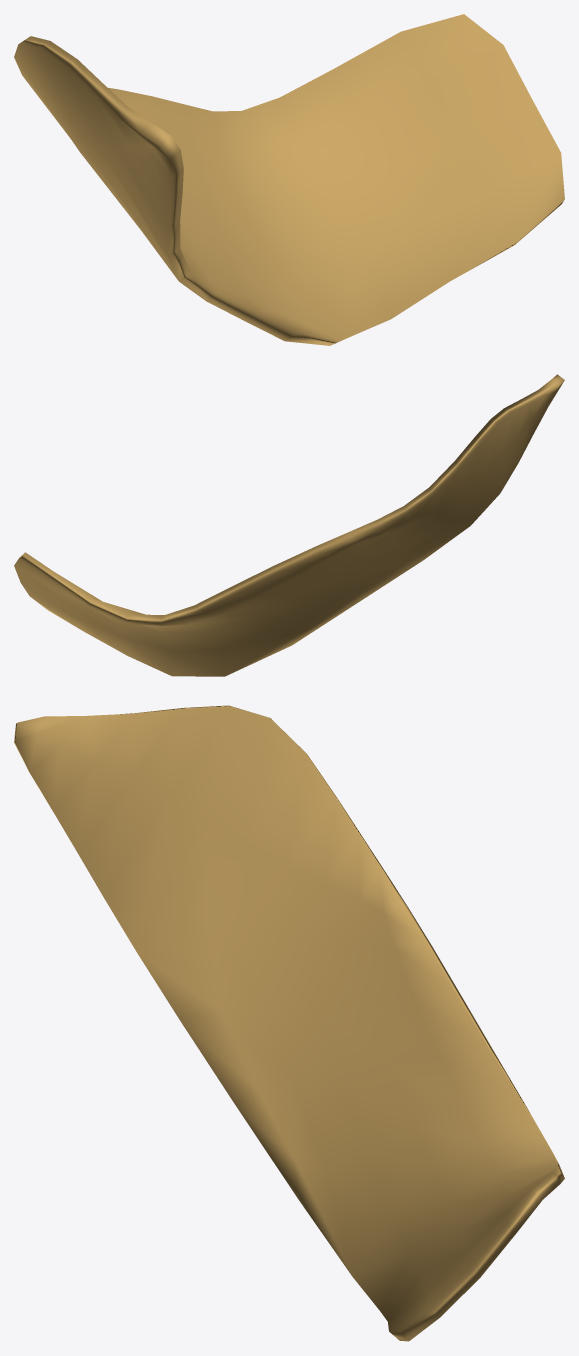
The picture shows the model from 3 angles, top to bottom: view 1: azimuth 30°, elevation 25°; view 2: azimuth 150°, elevation 25°; view 3: azimuth 270°, elevation 25°; orthographic projection. The views are drawn at different scales.
Parts seen in each view (by area): view 1: 左侧盂肱下韧带; view 2: 左侧盂肱下韧带; view 3: 左侧盂肱下韧带.
Boxes of the visible parts, left/top/right/bottom form: 左侧盂肱下韧带: left=14, top=14, right=564, bottom=345; 左侧盂肱下韧带: left=14, top=374, right=564, bottom=676; 左侧盂肱下韧带: left=14, top=705, right=564, bottom=1341.
Bounding box in the file's own units: 0.0352 × 0.0238 × 0.0284.
